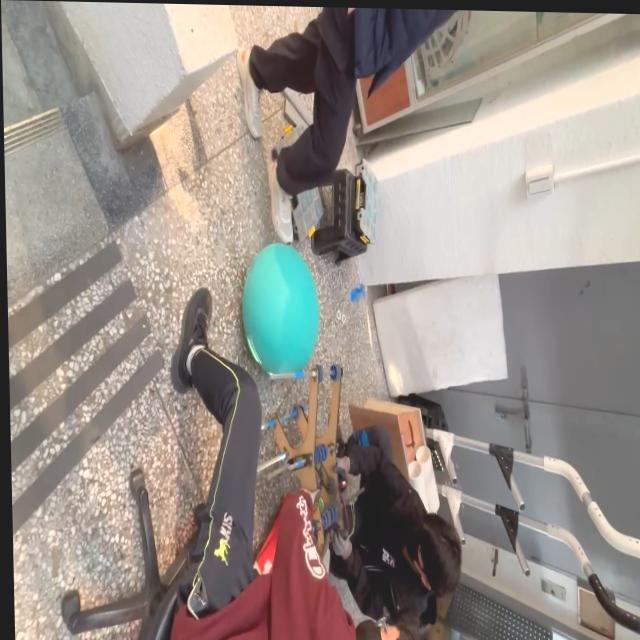ALGAE: (238, 239, 321, 379)
